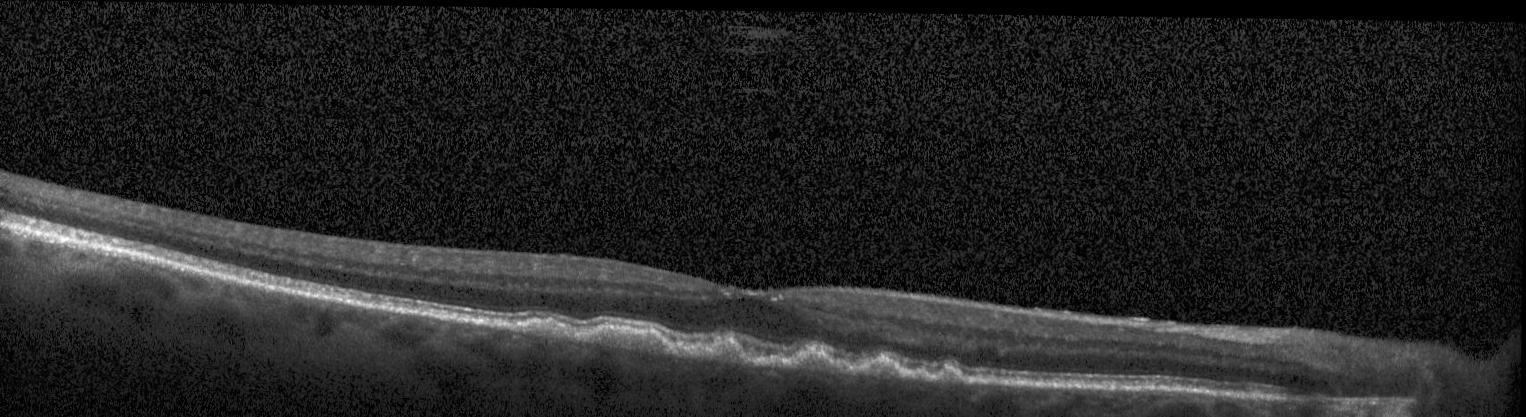retinal_drusen: (590, 324, 673, 351), (518, 318, 578, 336), (793, 348, 836, 372), (714, 337, 751, 361), (937, 366, 969, 383), (870, 355, 900, 372), (679, 344, 710, 357), (756, 355, 784, 366), (908, 367, 927, 378), (973, 376, 986, 383), (989, 377, 1002, 383), (842, 361, 852, 368)
